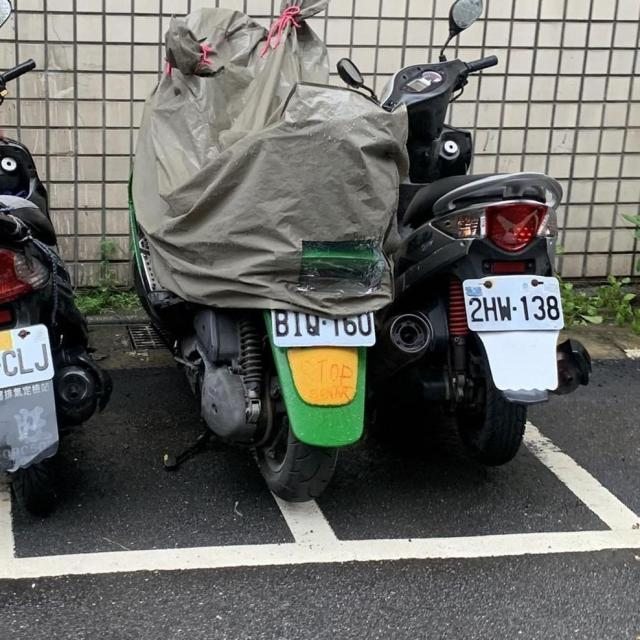W: (257, 286, 384, 351), (453, 274, 572, 334), (0, 322, 60, 396)
